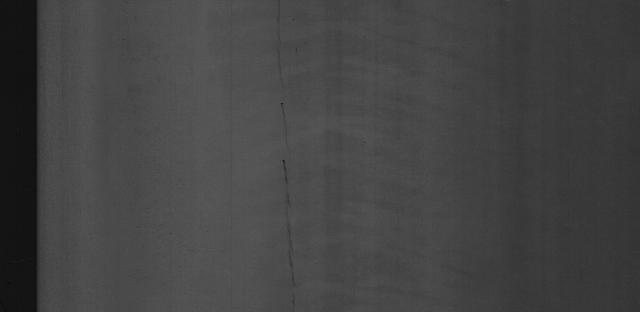inclusion: (268, 0, 308, 305)
